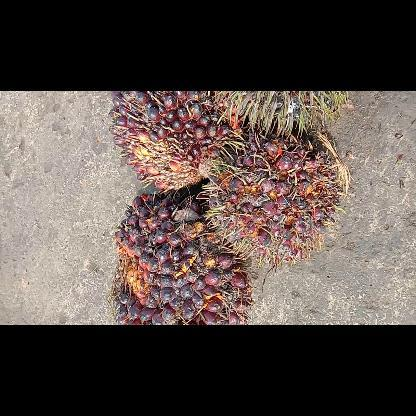Kurang masak: (208, 127, 348, 264), (108, 91, 242, 187)
TBS masak: (106, 192, 250, 324)
